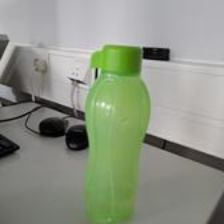bottle: (81, 42, 151, 223)
